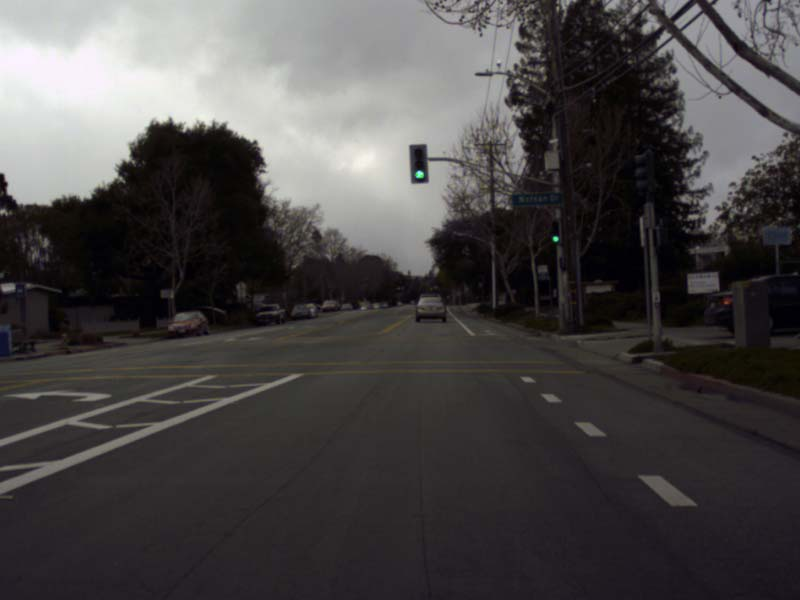Green: (409, 145, 428, 183), (552, 219, 561, 244), (430, 281, 433, 291)
